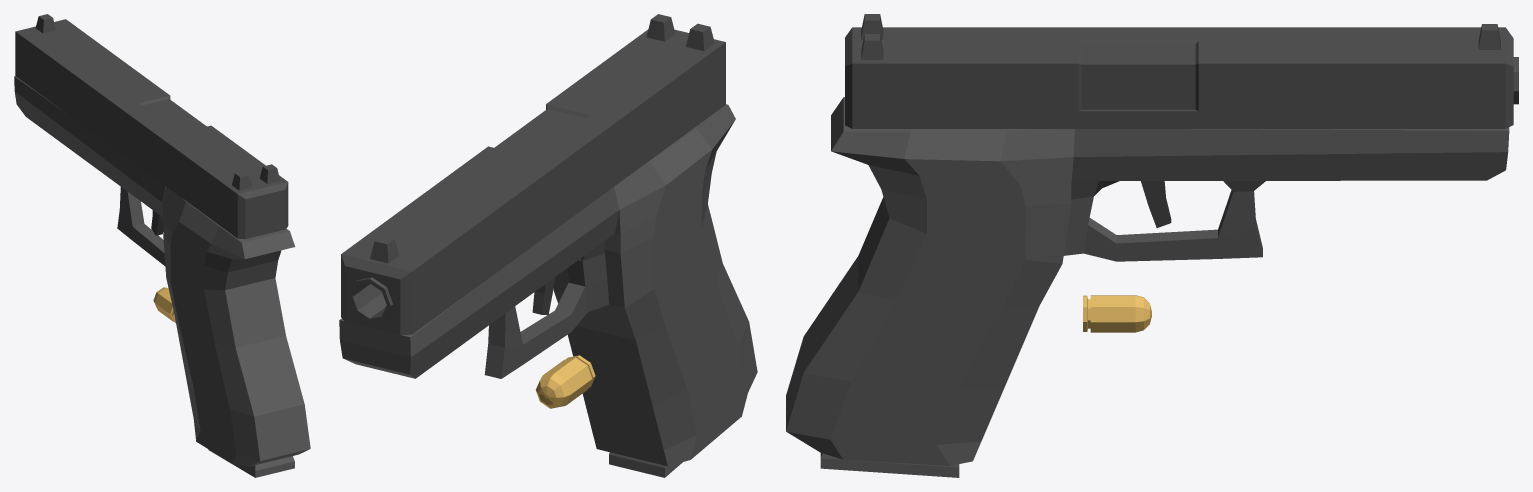
Rendered from pistol.glb.
3 renders of one model, left to right at view 1: azimuth 30°, elevation 25°; view 2: azimuth 150°, elevation 25°; view 3: azimuth 270°, elevation 25°, orthographic. The views are drawn at different scales.
Visible parts, largest first — view 1: Grip, Slide, TriggerGuard, Cube, Cylinder; view 2: Grip, Slide, TriggerGuard, Cylinder, Barrel, Cube, Trigger; view 3: Grip, Slide, TriggerGuard, Cylinder, Cube, Trigger.
Boxes of the visible parts, bbox=[...] form: Grip: bbox=[14, 76, 310, 466]; Slide: bbox=[15, 14, 288, 239]; TriggerGuard: bbox=[117, 187, 165, 265]; Cube: bbox=[208, 449, 294, 477]; Cylinder: bbox=[153, 287, 175, 322]; Grip: bbox=[339, 104, 757, 466]; Slide: bbox=[341, 14, 725, 335]; TriggerGuard: bbox=[484, 241, 608, 378]; Cylinder: bbox=[536, 355, 595, 408]; Barrel: bbox=[349, 277, 392, 322]; Cube: bbox=[609, 452, 682, 477]; Trigger: bbox=[532, 277, 555, 314]; Grip: bbox=[786, 97, 1509, 465]; Slide: bbox=[845, 14, 1513, 128]; TriggerGuard: bbox=[1063, 181, 1265, 261]; Cylinder: bbox=[1083, 295, 1151, 332]; Cube: bbox=[820, 453, 959, 477]; Trigger: bbox=[1141, 181, 1171, 227].
Size of the model in its own units: 0.4974 by 2.1 by 3.2.
